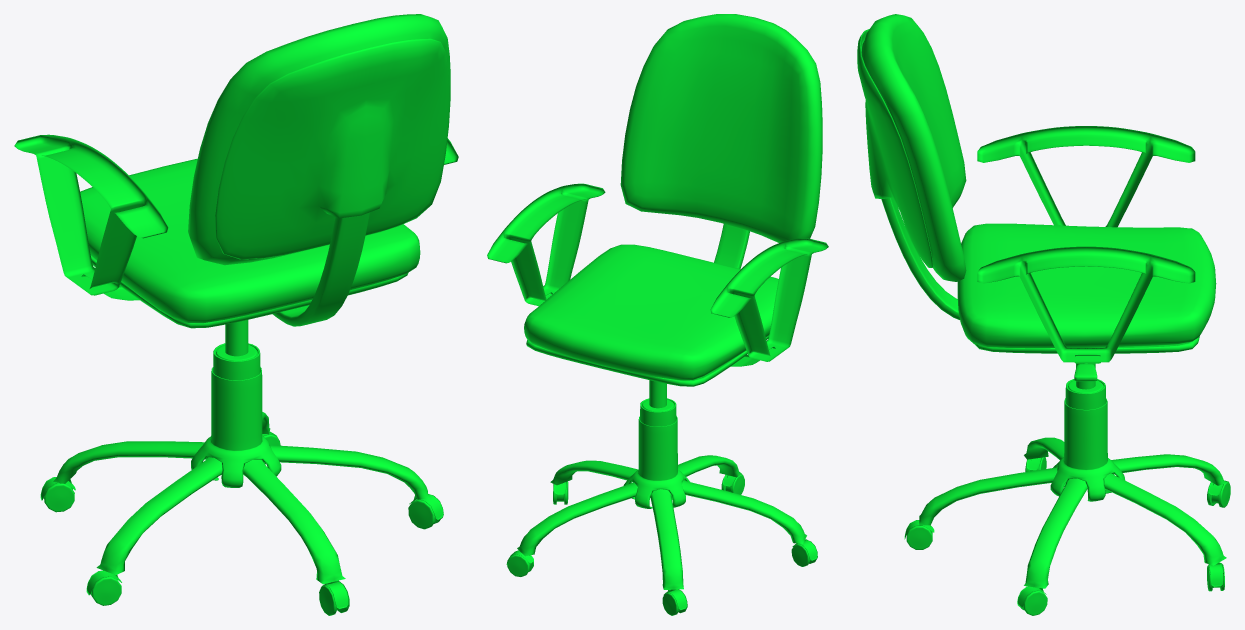
3 views of the same model, side by side, from view 1: azimuth 30°, elevation 25°; view 2: azimuth 150°, elevation 25°; view 3: azimuth 270°, elevation 25° (orthographic). The views are drawn at different scales.
Visible parts, largest first — view 1: Chair:polySurface1; view 2: Chair:polySurface1; view 3: Chair:polySurface1.
Part boxes in pixels (x1=…): Chair:polySurface1: x1=14, y1=14, x2=458, y2=615; Chair:polySurface1: x1=487, y1=14, x2=828, y2=615; Chair:polySurface1: x1=857, y1=14, x2=1230, y2=615.
Size of the model in its own units: 0.8104 by 1.35 by 0.8857.
